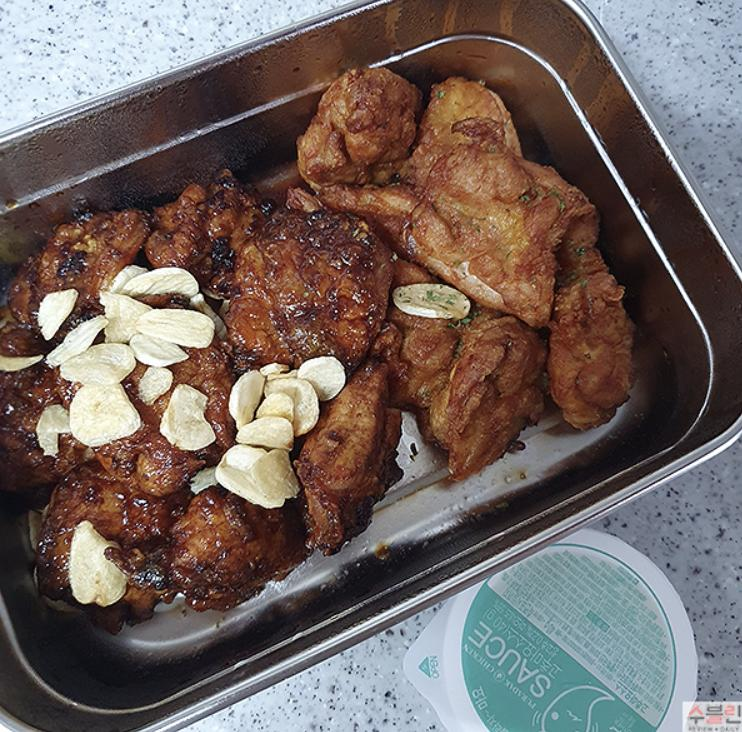Lunch Box: (0, 0, 741, 731)
cup: (405, 530, 697, 731)
